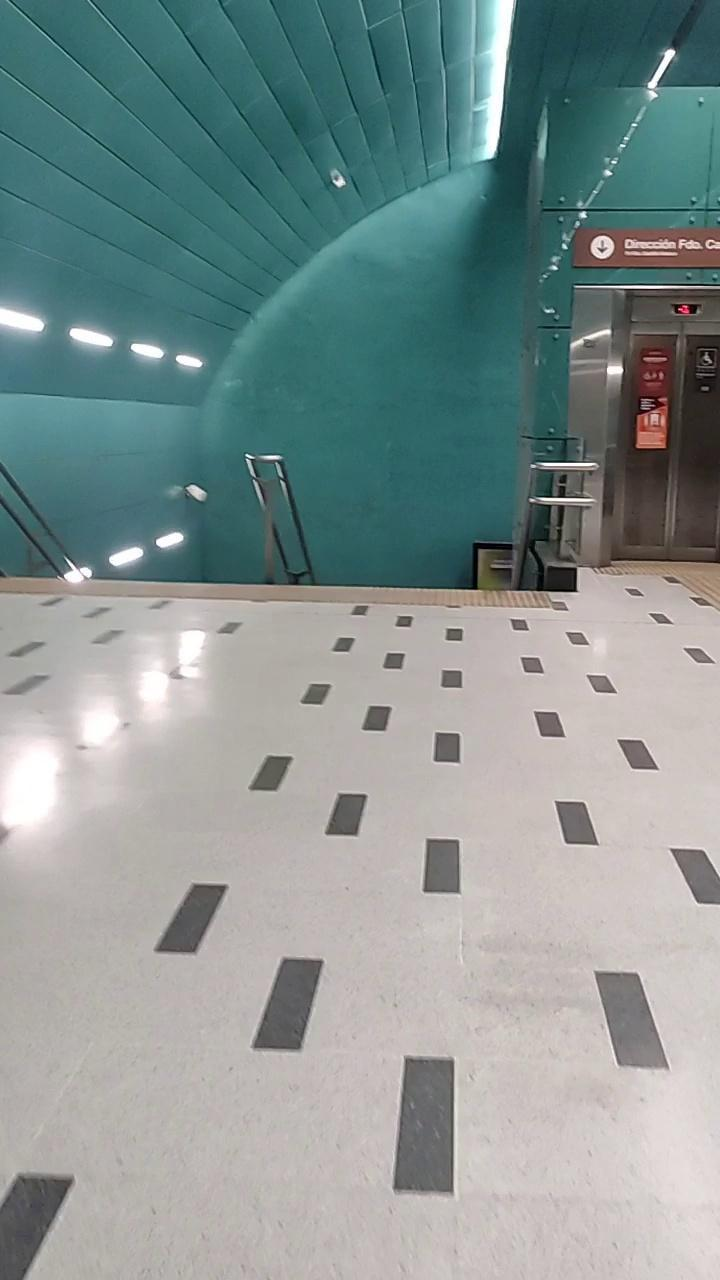down arrow: (588, 233, 618, 259)
handicapped symbol: (697, 348, 716, 376)
